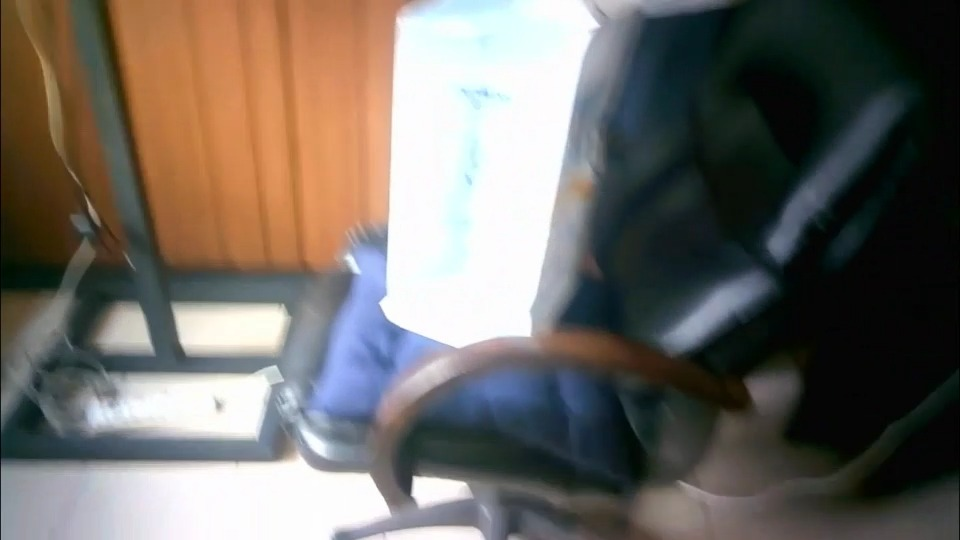wheat_flour_blue_label: (389, 3, 599, 354)
